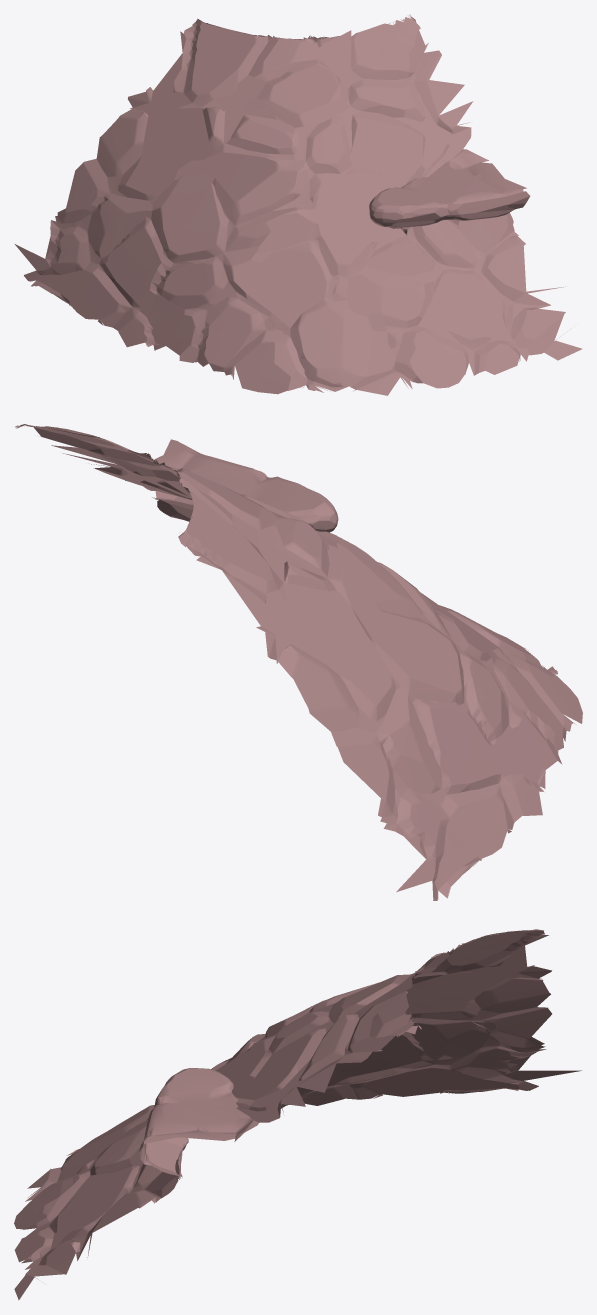
File: plateau.fbx_Rock_Plateau_021LODs.fbx
3 renders of one model, top to bottom at view 1: azimuth 30°, elevation 25°; view 2: azimuth 150°, elevation 25°; view 3: azimuth 270°, elevation 25°, orthographic. The views are drawn at different scales.
Parts seen in each view (by area): view 1: Rock Plateau.021_LOD0; view 2: Rock Plateau.021_LOD0; view 3: Rock Plateau.021_LOD0.
Boxes of the visible parts, x1,y1,x2,y2 form: Rock Plateau.021_LOD0: [15, 15, 582, 395]; Rock Plateau.021_LOD0: [15, 424, 582, 900]; Rock Plateau.021_LOD0: [14, 929, 581, 1300].
Size of what is drawn, in the model's own units: 5216 by 3088 by 5741.
